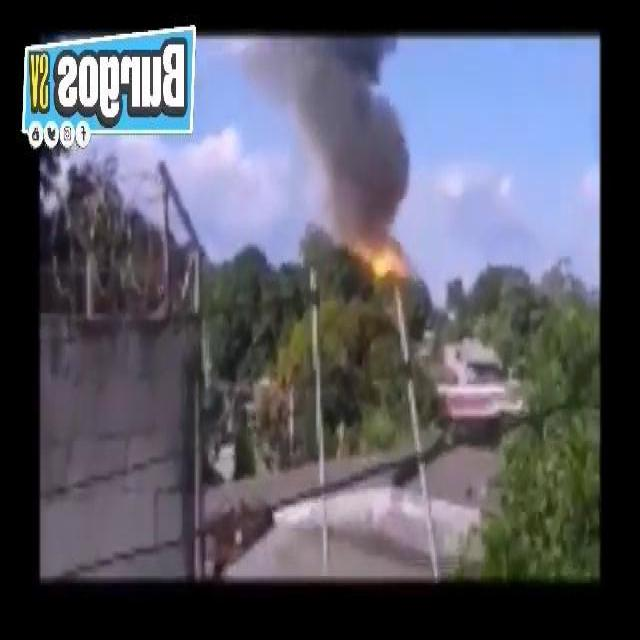Fire: (351, 228, 412, 286)
Smoke: (311, 37, 422, 217)
